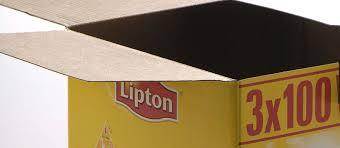Cardboard: (2, 3, 340, 148)
